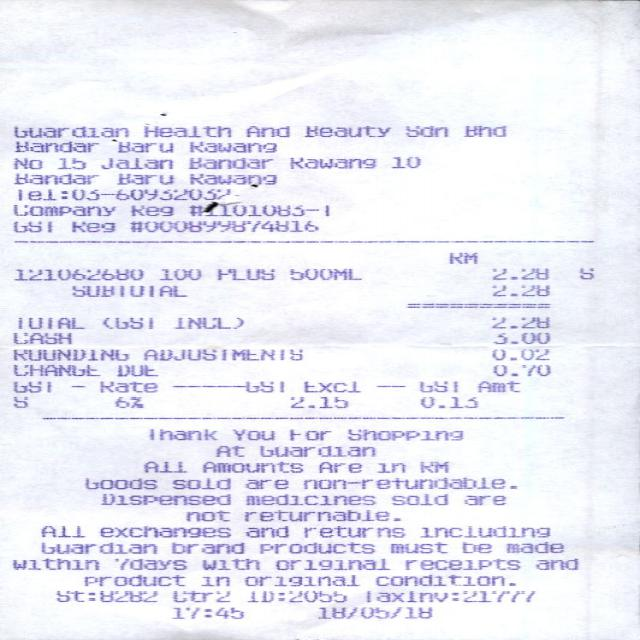text: (14, 188, 237, 200), (301, 476, 515, 488), (126, 219, 316, 232), (186, 200, 328, 216), (364, 590, 533, 602), (243, 508, 398, 521), (66, 282, 190, 298), (142, 348, 301, 360), (373, 573, 514, 586), (7, 124, 130, 138), (98, 492, 228, 505), (12, 268, 142, 280), (98, 525, 228, 537), (418, 525, 548, 537), (244, 493, 373, 505), (257, 444, 373, 457), (243, 573, 357, 586), (345, 428, 461, 440), (39, 542, 155, 554), (257, 542, 373, 554), (403, 558, 519, 570), (11, 348, 126, 360), (315, 606, 430, 618), (188, 172, 274, 188), (273, 558, 387, 570), (11, 203, 113, 216), (82, 573, 183, 586), (140, 124, 232, 138), (198, 460, 301, 472), (140, 426, 217, 442), (302, 525, 403, 537), (54, 590, 155, 602), (246, 590, 346, 602), (10, 363, 99, 376), (302, 124, 389, 137), (188, 140, 274, 152), (11, 558, 97, 570), (11, 140, 96, 152), (11, 172, 96, 184), (288, 157, 374, 168), (186, 157, 272, 168), (7, 330, 72, 344), (168, 542, 243, 554), (97, 156, 171, 168), (109, 138, 171, 152), (288, 268, 360, 280), (113, 558, 185, 570), (171, 606, 242, 618), (300, 379, 360, 393), (17, 316, 83, 328), (83, 478, 155, 489), (171, 317, 242, 328), (113, 172, 172, 185), (96, 380, 155, 393), (504, 540, 562, 553), (492, 331, 549, 344), (389, 492, 446, 505), (488, 348, 548, 360), (489, 267, 546, 279), (215, 268, 272, 280), (491, 364, 548, 376), (418, 396, 475, 408), (289, 396, 346, 408), (200, 558, 257, 570), (491, 284, 547, 296), (171, 590, 227, 602), (489, 317, 548, 328), (170, 478, 228, 489), (389, 542, 445, 553), (98, 317, 152, 328), (403, 124, 446, 137), (462, 124, 504, 137), (315, 460, 360, 472), (183, 509, 228, 521), (128, 204, 172, 216), (39, 525, 83, 537), (70, 220, 113, 232), (142, 460, 185, 472), (243, 525, 286, 537), (158, 268, 200, 280), (113, 364, 155, 376), (240, 380, 282, 392), (231, 428, 273, 440), (243, 125, 288, 136), (11, 380, 52, 392), (288, 428, 328, 440), (11, 220, 50, 232), (475, 381, 517, 392), (462, 494, 504, 505), (534, 558, 576, 569), (243, 478, 286, 488), (417, 381, 456, 392), (213, 444, 243, 457), (446, 252, 476, 264), (389, 156, 418, 168), (11, 156, 40, 168), (418, 460, 447, 472), (113, 396, 141, 408), (54, 158, 84, 169), (460, 542, 490, 553), (374, 462, 403, 472), (201, 575, 227, 586), (575, 266, 594, 278), (11, 396, 26, 407)
